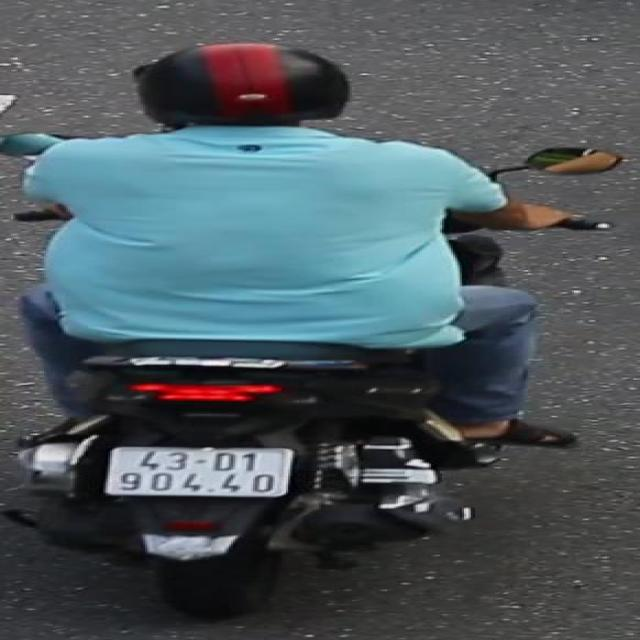LP: (100, 443, 300, 503)
helmet: (117, 41, 360, 150)
